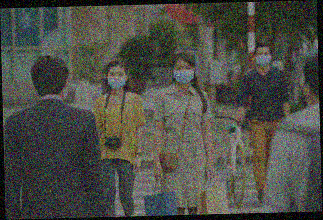with_mask: (173, 63, 195, 86), (107, 70, 127, 92), (256, 50, 272, 68)
